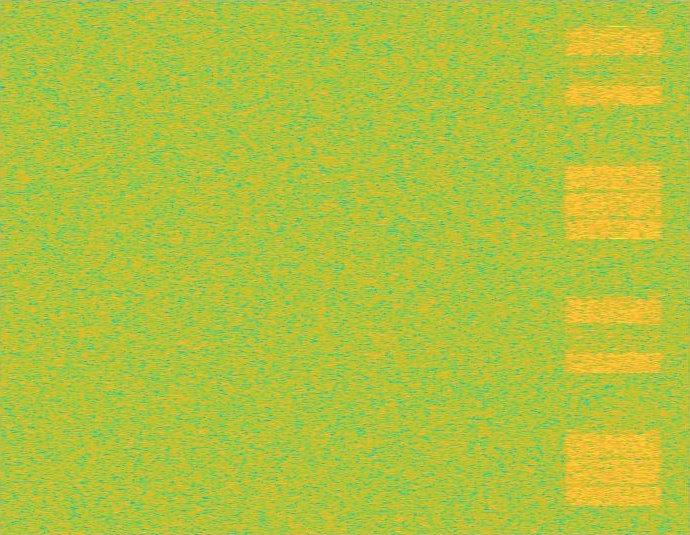LTE: (562, 0, 665, 534)
Radar: (611, 0, 625, 534)
